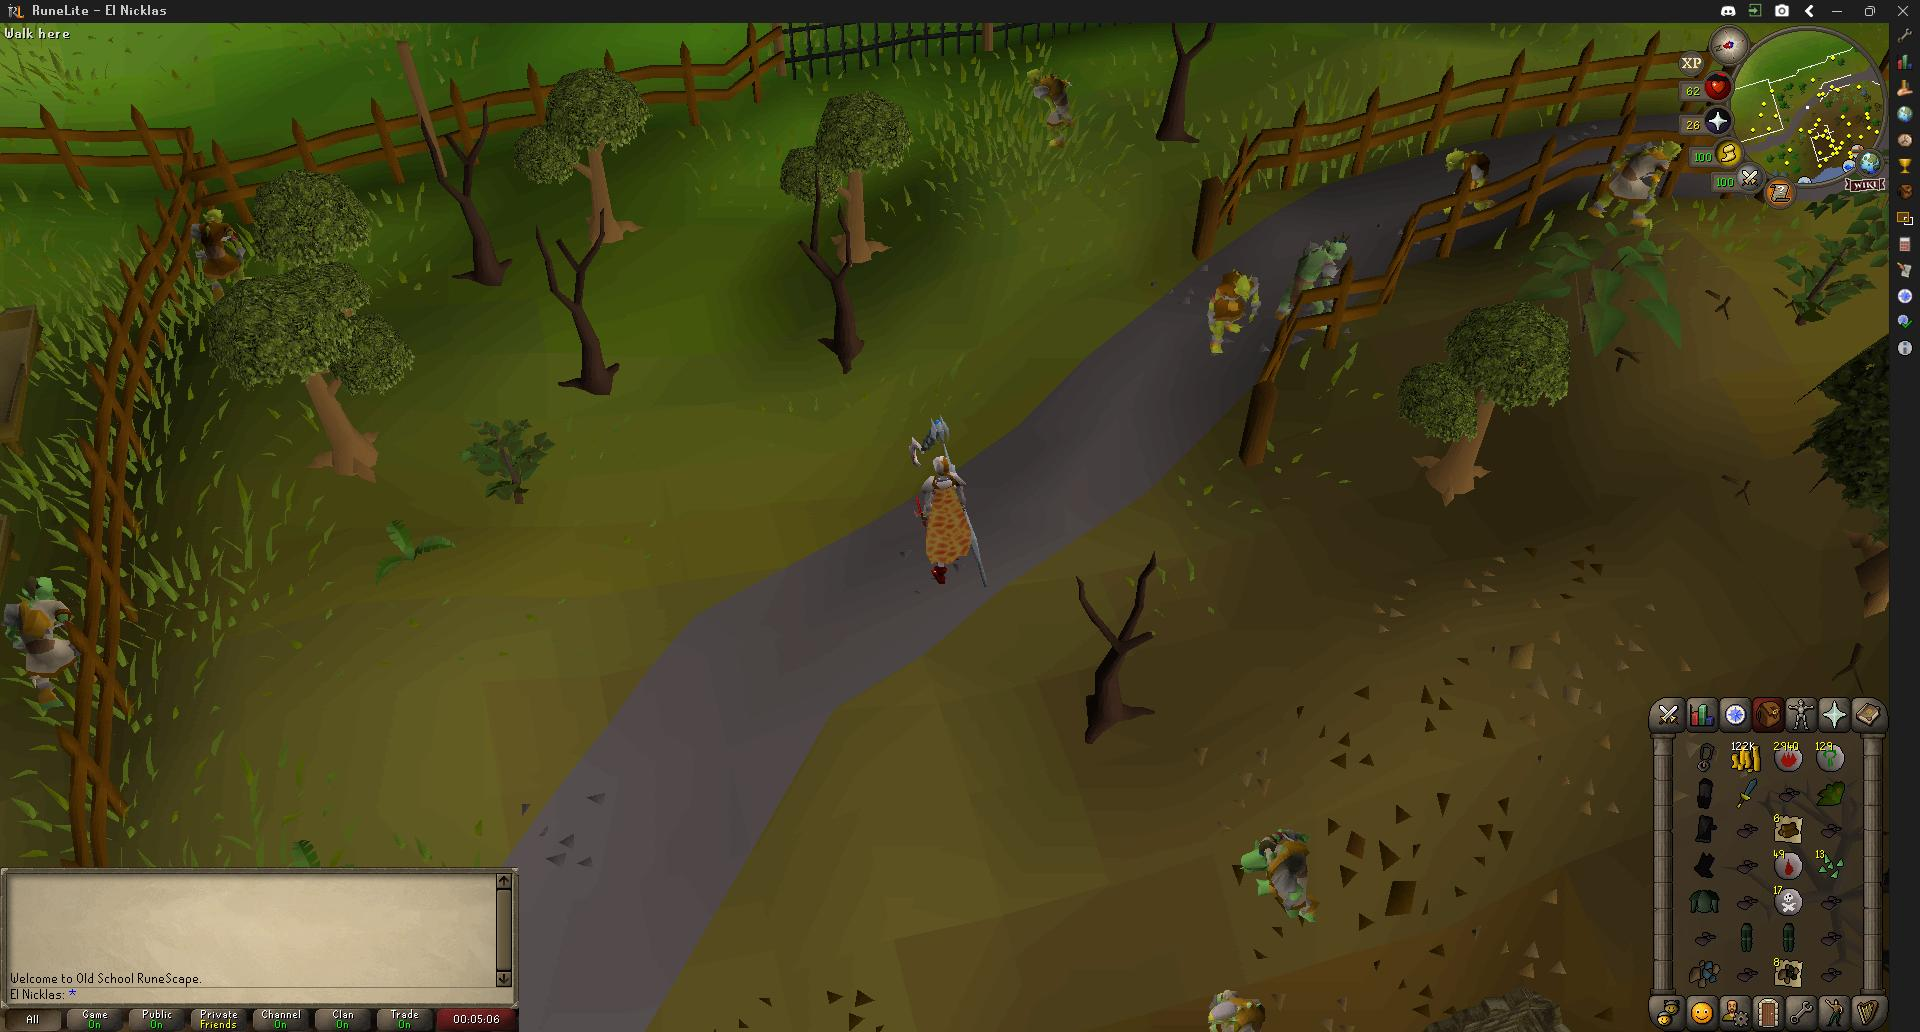Player: (915, 445, 977, 584)
goblin: (2, 577, 82, 700), (1590, 138, 1683, 234), (1253, 827, 1325, 921), (1283, 236, 1349, 337), (188, 209, 251, 298), (1205, 268, 1255, 354), (1027, 68, 1073, 149), (1441, 148, 1493, 215), (1208, 988, 1267, 1031)
